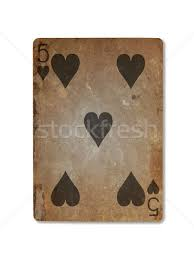five of hearts: (33, 38, 164, 223)
